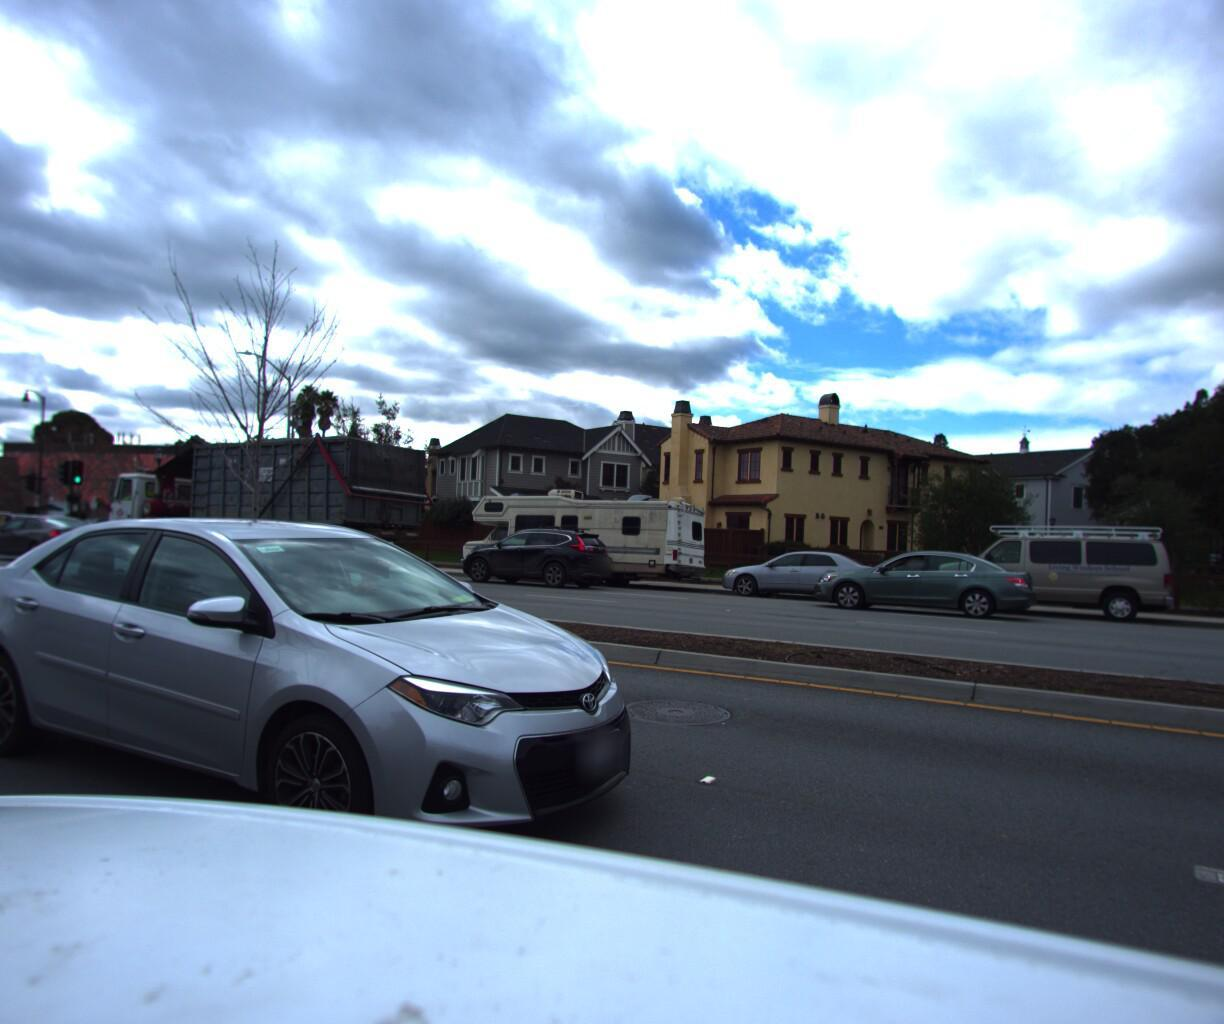car: (799, 539, 1040, 621), (455, 516, 622, 588), (710, 541, 893, 604)
other_vehicle: (454, 475, 716, 592)
truck: (77, 415, 451, 588), (920, 513, 1178, 627)
